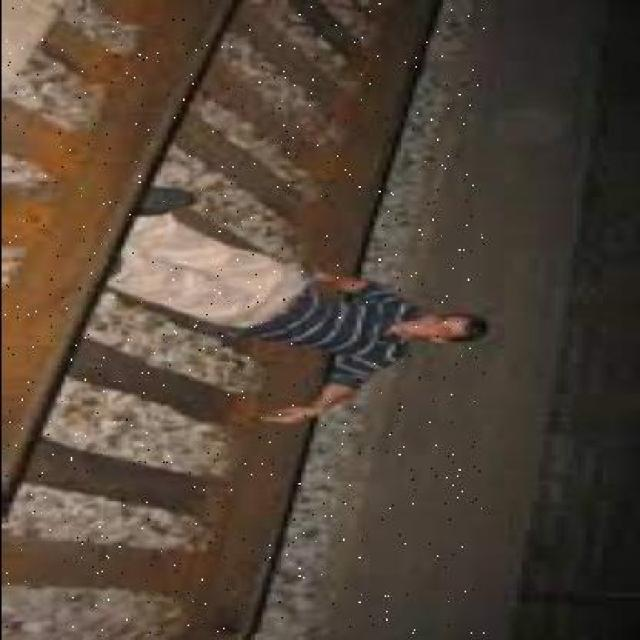danger: (73, 191, 464, 407)
rail: (3, 0, 482, 634)
